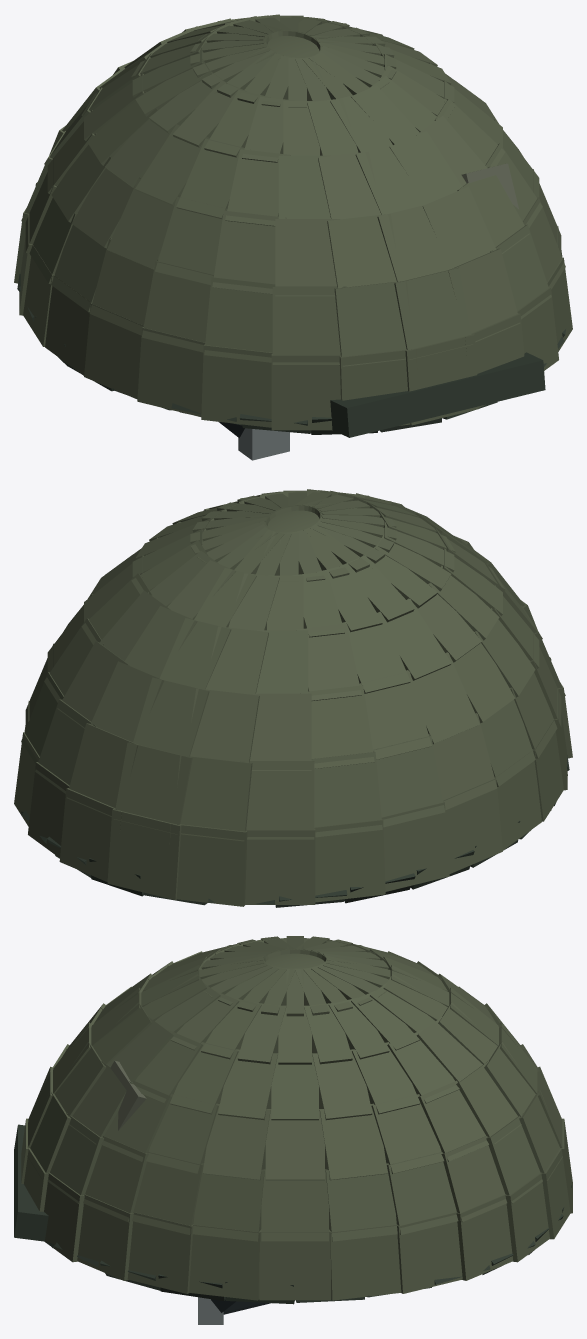
File: FSA_ARMOR_Helmet_001_Military.glb
3 views of the same model, one above another, from view 1: azimuth 30°, elevation 25°; view 2: azimuth 150°, elevation 25°; view 3: azimuth 270°, elevation 25° (orthographic). The views are drawn at different scales.
Parts seen in each view (by area): view 1: FrontLip, Shell_0_21, Shell_1_22, Shell_0_22, Shell_1_0, Shell_1_21, Shell_1_23, Shell_0_20, Shell_1_20, Shell_2_21, Shell_2_0, Shell_2_22 (+71 smaller); view 2: Shell_0_12, Shell_0_13, Shell_0_14, Shell_0_15, Shell_1_14, Shell_1_12, Shell_1_15, Shell_1_13, Shell_0_16, Shell_1_16, Shell_2_15, Shell_2_12 (+69 smaller); view 3: Shell_0_6, Shell_0_7, Shell_0_5, Shell_1_6, Shell_1_5, Shell_1_7, Shell_0_8, Shell_0_4, Shell_1_4, Shell_1_8, Shell_2_6, Shell_2_5 (+71 smaller).
Part boxes in pixels (bbox=[...]): FrontLip: bbox=[330, 352, 545, 437]; Shell_0_21: bbox=[201, 344, 272, 427]; Shell_1_22: bbox=[272, 286, 346, 364]; Shell_0_22: bbox=[271, 354, 340, 430]; Shell_1_0: bbox=[394, 267, 472, 359]; Shell_1_21: bbox=[204, 277, 275, 362]; Shell_1_23: bbox=[334, 281, 409, 366]; Shell_0_20: bbox=[137, 327, 205, 416]; Shell_1_20: bbox=[141, 261, 213, 352]; Shell_2_21: bbox=[212, 210, 286, 294]; Shell_2_0: bbox=[377, 202, 453, 281]; Shell_2_22: bbox=[275, 219, 339, 296]; Shell_0_12: bbox=[107, 809, 181, 900]; Shell_0_13: bbox=[169, 823, 247, 906]; Shell_0_14: bbox=[245, 828, 315, 904]; Shell_0_15: bbox=[314, 819, 385, 902]; Shell_1_14: bbox=[240, 761, 314, 839]; Shell_1_12: bbox=[114, 742, 192, 834]; Shell_1_15: bbox=[311, 751, 382, 837]; Shell_1_13: bbox=[177, 755, 252, 841]; Shell_0_16: bbox=[381, 801, 449, 891]; Shell_1_16: bbox=[373, 735, 444, 827]; Shell_2_15: bbox=[300, 685, 374, 768]; Shell_2_12: bbox=[133, 677, 209, 756]; Shell_0_6: bbox=[259, 1229, 330, 1300]; Shell_0_7: bbox=[330, 1224, 401, 1300]; Shell_0_5: bbox=[189, 1224, 260, 1300]; Shell_1_6: bbox=[261, 1169, 328, 1241]; Shell_1_5: bbox=[192, 1163, 264, 1241]; Shell_1_7: bbox=[325, 1163, 397, 1241]; Shell_0_8: bbox=[397, 1212, 462, 1293]; Shell_0_4: bbox=[127, 1212, 193, 1293]; Shell_1_4: bbox=[132, 1152, 203, 1234]; Shell_1_8: bbox=[387, 1152, 458, 1234]; Shell_2_6: bbox=[265, 1109, 324, 1180]; Shell_2_5: bbox=[202, 1103, 270, 1180].
Bounding box in the file's own units: 0.3045 × 0.2257 × 0.3511.
